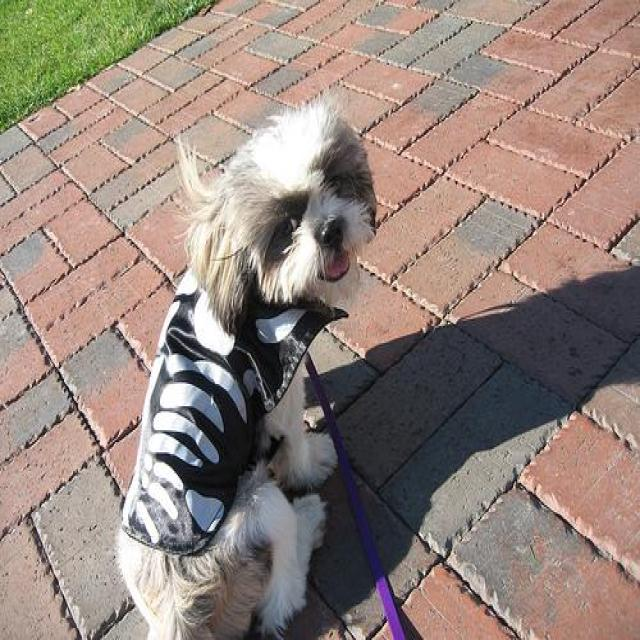shih_tzu: (112, 94, 382, 638)
